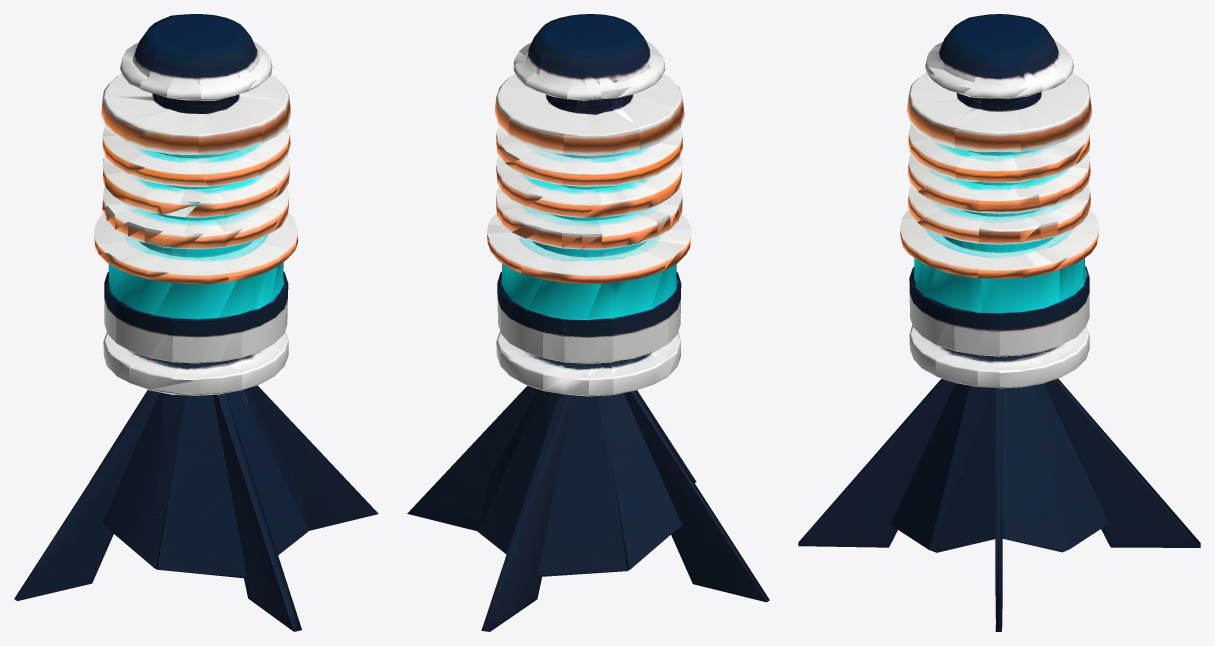
The model's file is beacon.glb.
The picture shows the model from 3 angles, left to right: view 1: azimuth 30°, elevation 25°; view 2: azimuth 150°, elevation 25°; view 3: azimuth 270°, elevation 25°; orthographic projection. The views are drawn at different scales.
Bounding box in the file's own units: 0.7207 × 1 × 0.7109.
1 material, 1 textured.
